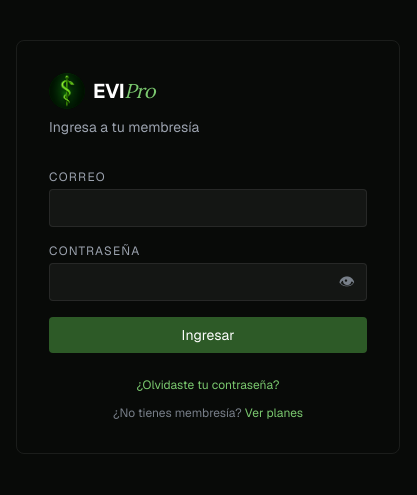
it: LoginPage › distingue un fallo de captcha del error de credenciales
The image size is (417, 495).
Type "paciente@example.com" into the field labelled "Correo" at (208, 208), box [49, 189, 367, 227]
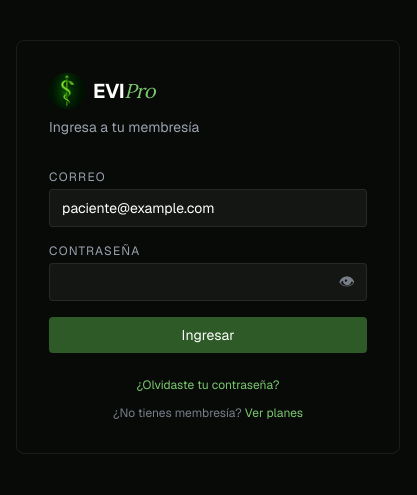
Type "clave-segura" into the password field labelled "Contraseña" at (208, 282), box [49, 263, 367, 301]
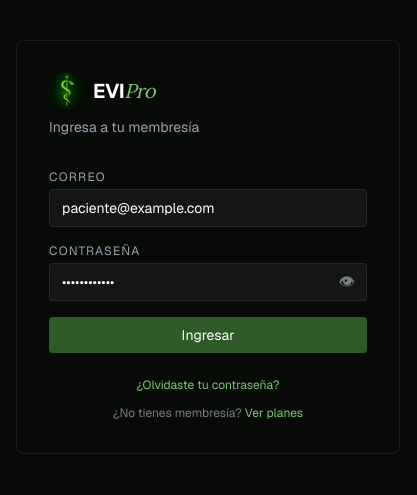
Click the button "Ingresar" at (208, 335), box [49, 317, 367, 353]
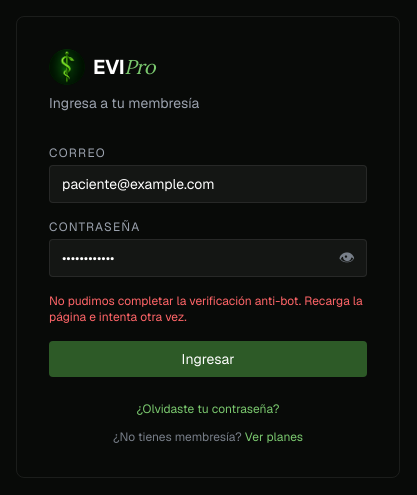
Expected: the text "verificación anti-bot" is shown, [49, 293, 363, 325]
